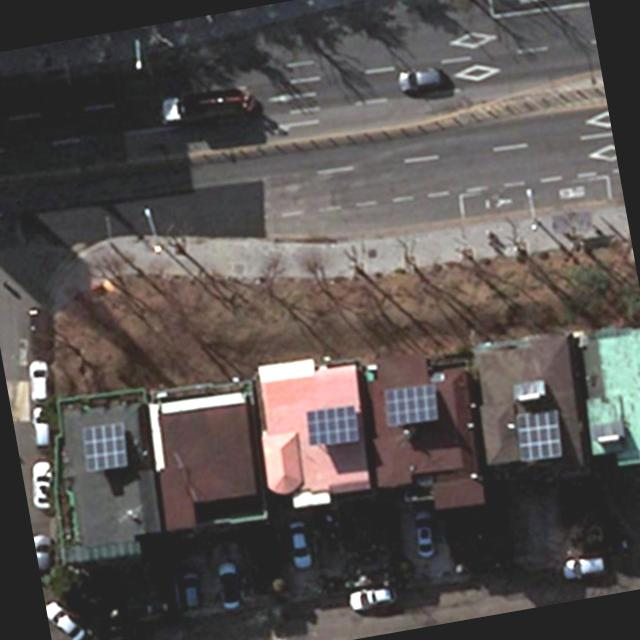solar: (379, 378, 444, 431), (302, 399, 366, 452), (512, 405, 566, 466), (76, 418, 132, 476)
